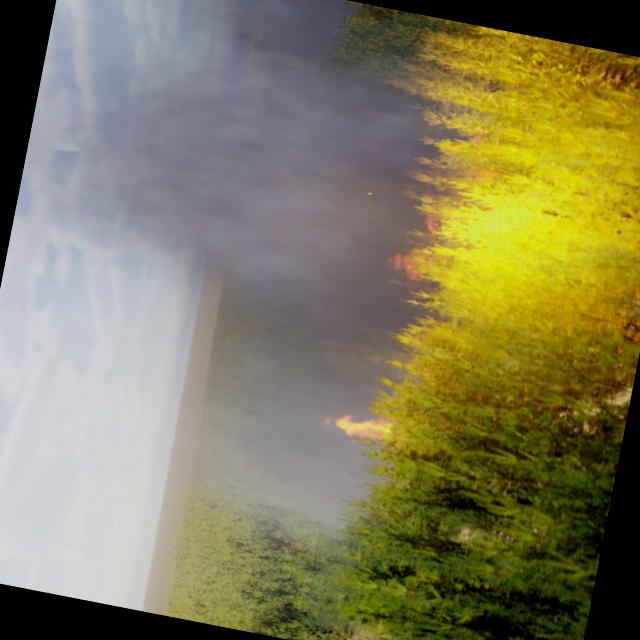fire: (348, 15, 640, 470), (381, 114, 503, 294), (321, 404, 395, 452)
smoke: (10, 0, 458, 540)
